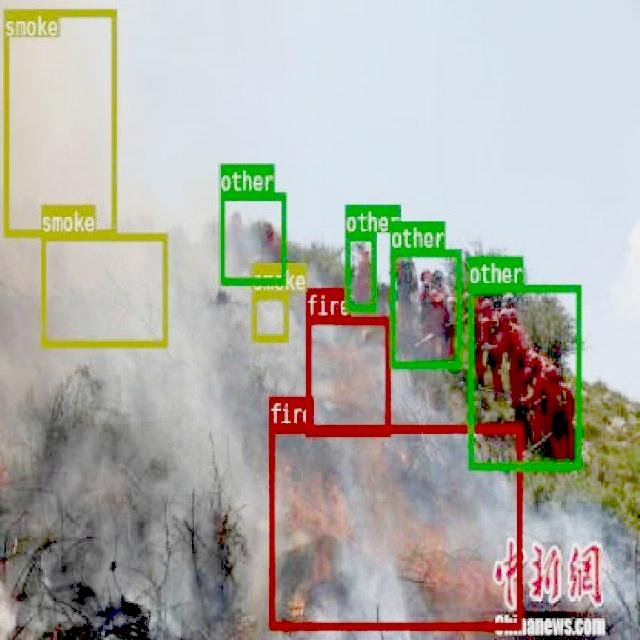fire: (268, 424, 521, 628), (304, 316, 390, 435)
smoke: (2, 7, 116, 236), (39, 232, 167, 346), (250, 289, 287, 342)
